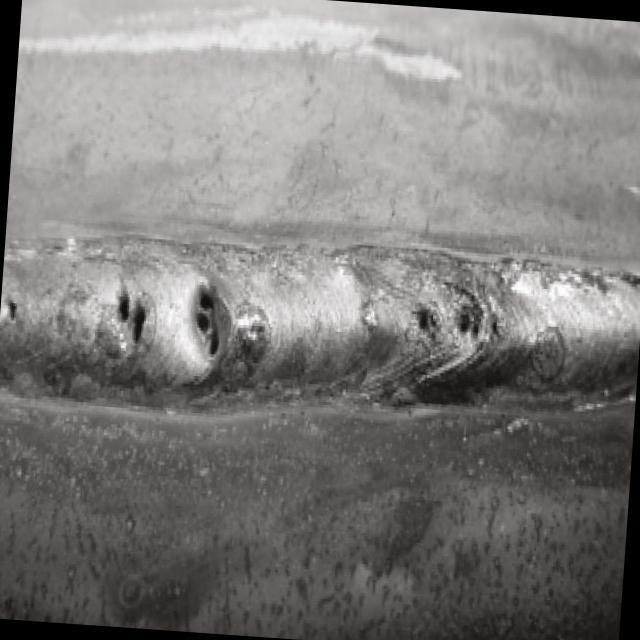defect: (188, 272, 235, 379), (110, 271, 154, 362), (453, 281, 506, 354), (407, 292, 442, 351), (1, 296, 23, 333)
